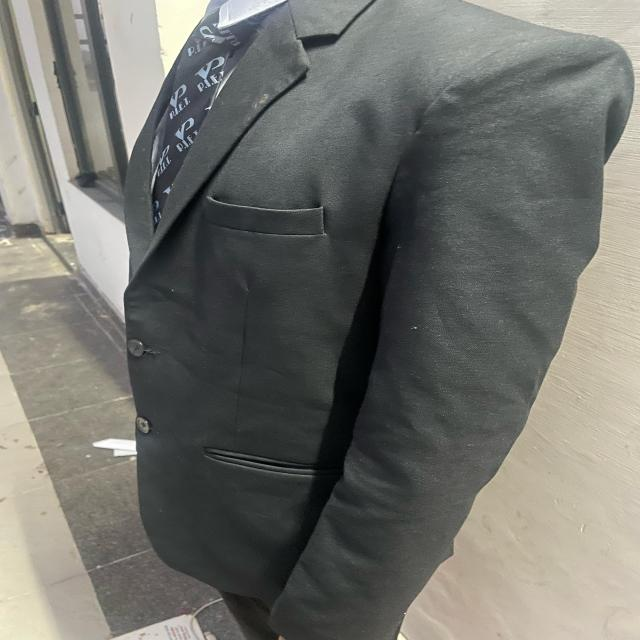uniform: (121, 0, 635, 639)
